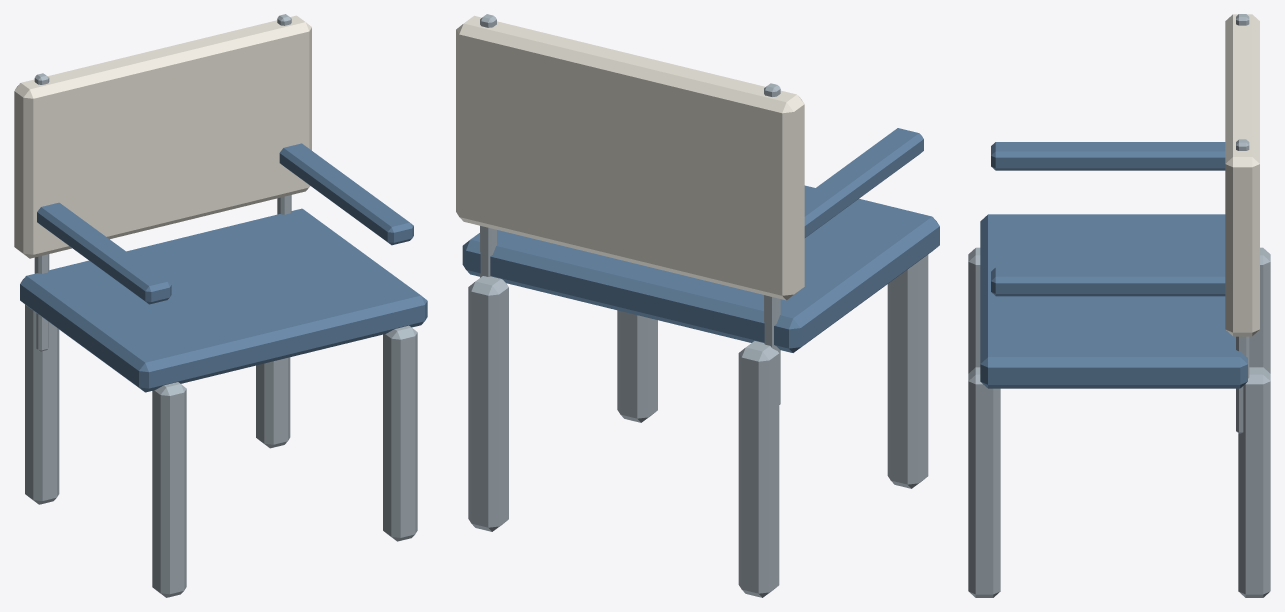
The model's file is ward_06.glb.
3 views of the same model, side by side, from view 1: azimuth 30°, elevation 25°; view 2: azimuth 150°, elevation 25°; view 3: azimuth 270°, elevation 25° (orthographic). The views are drawn at different scales.
Visible parts, largest first — view 1: ChairBack, Seat, Leg (×4), ArmPad (×2), BackSupport; view 2: ChairBack, Leg (×4), Seat, ArmPad, BackSupport (×2); view 3: Seat, Leg (×4), ArmPad (×2), ChairBack, BackSupport.
Part boxes in pixels (<box>): ChairBack: <box>14,15,311,258</box>; Seat: <box>20,208,427,392</box>; Leg (×4): <box>25,304,417,597</box>; ArmPad (×2): <box>37,143,413,304</box>; BackSupport: <box>34,73,49,351</box>; ChairBack: <box>456,15,804,300</box>; Leg (×4): <box>468,254,928,597</box>; Seat: <box>462,185,939,352</box>; ArmPad: <box>804,128,923,237</box>; BackSupport (×2): <box>480,14,780,404</box>; Seat: <box>980,214,1247,388</box>; Leg (×4): <box>968,247,1270,597</box>; ArmPad (×2): <box>991,142,1225,296</box>; ChairBack: <box>1225,14,1259,336</box>; BackSupport: <box>1236,139,1249,433</box>.
Bounding box in the file's own units: 0.66 × 0.94 × 0.564.
